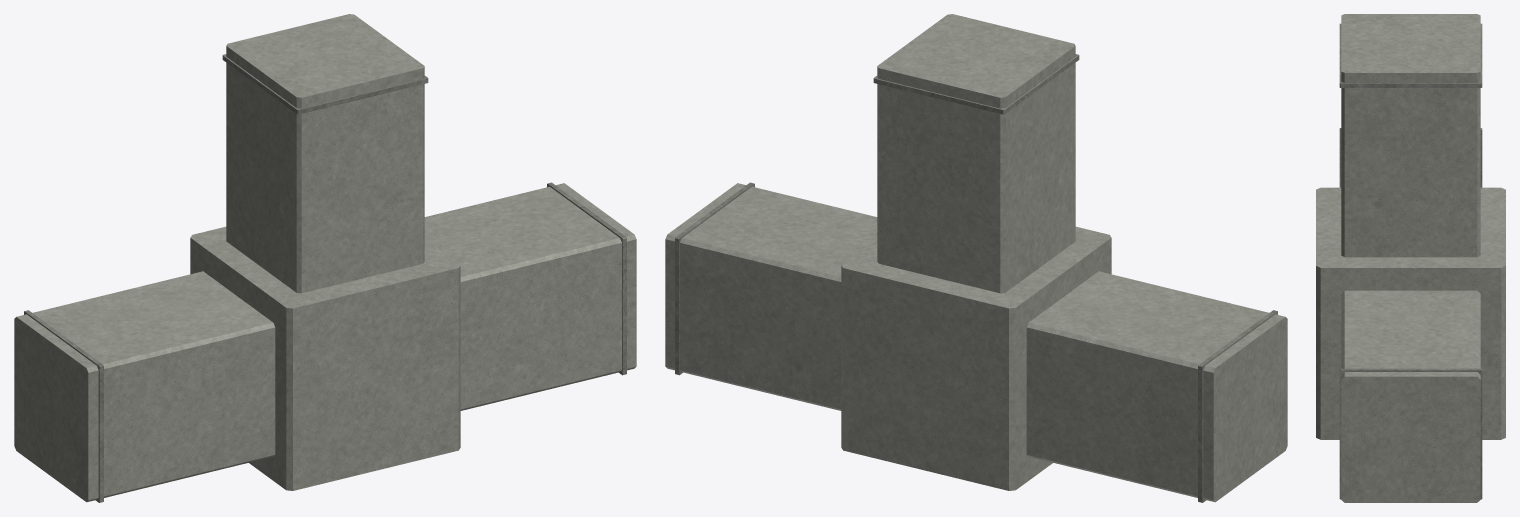
Rendered from PZ_Joint_T_XYZ.glb.
3 views of the same model, side by side, from view 1: azimuth 30°, elevation 25°; view 2: azimuth 150°, elevation 25°; view 3: azimuth 270°, elevation 25° (orthographic). The views are drawn at different scales.
Visible parts, largest first — view 1: RENDER_PZ_Joint_T_XYZ__RENDER_Stub_+Z__005, RENDER_PZ_Joint_T_XYZ__RENDER_Stub_-X__003, RENDER_PZ_Joint_T_XYZ__RENDER_Joint_Central_Core__000, RENDER_PZ_Joint_T_XYZ__RENDER_Stub_+X__001, RENDER_PZ_Joint_T_XYZ__RENDER_Joint_Grout_-X__004, RENDER_PZ_Joint_T_XYZ__RENDER_Joint_Grout_+Z__006, RENDER_PZ_Joint_T_XYZ__RENDER_Joint_Grout_+X__002; view 2: RENDER_PZ_Joint_T_XYZ__RENDER_Stub_+Z__005, RENDER_PZ_Joint_T_XYZ__RENDER_Stub_-X__003, RENDER_PZ_Joint_T_XYZ__RENDER_Joint_Central_Core__000, RENDER_PZ_Joint_T_XYZ__RENDER_Stub_+X__001, RENDER_PZ_Joint_T_XYZ__RENDER_Joint_Grout_-X__004, RENDER_PZ_Joint_T_XYZ__RENDER_Joint_Grout_+Z__006, RENDER_PZ_Joint_T_XYZ__RENDER_Joint_Grout_+X__002; view 3: RENDER_PZ_Joint_T_XYZ__RENDER_Stub_+Z__005, RENDER_PZ_Joint_T_XYZ__RENDER_Stub_+X__001, RENDER_PZ_Joint_T_XYZ__RENDER_Joint_Central_Core__000, RENDER_PZ_Joint_T_XYZ__RENDER_Joint_Grout_+X__002, RENDER_PZ_Joint_T_XYZ__RENDER_Joint_Grout_+Z__006, RENDER_PZ_Joint_T_XYZ__RENDER_Joint_Grout_-X__004.
Boxes of the visible parts, x1,y1,x2,y2 form: RENDER_PZ_Joint_T_XYZ__RENDER_Stub_+Z__005: [226, 14, 424, 293]; RENDER_PZ_Joint_T_XYZ__RENDER_Stub_-X__003: [14, 271, 275, 502]; RENDER_PZ_Joint_T_XYZ__RENDER_Joint_Central_Core__000: [190, 226, 460, 490]; RENDER_PZ_Joint_T_XYZ__RENDER_Stub_+X__001: [424, 183, 636, 410]; RENDER_PZ_Joint_T_XYZ__RENDER_Joint_Grout_-X__004: [24, 310, 103, 502]; RENDER_PZ_Joint_T_XYZ__RENDER_Joint_Grout_+Z__006: [222, 54, 428, 114]; RENDER_PZ_Joint_T_XYZ__RENDER_Joint_Grout_+X__002: [547, 182, 626, 375]; RENDER_PZ_Joint_T_XYZ__RENDER_Stub_+Z__005: [877, 14, 1075, 293]; RENDER_PZ_Joint_T_XYZ__RENDER_Stub_-X__003: [1026, 271, 1287, 502]; RENDER_PZ_Joint_T_XYZ__RENDER_Joint_Central_Core__000: [841, 226, 1111, 490]; RENDER_PZ_Joint_T_XYZ__RENDER_Stub_+X__001: [665, 183, 877, 410]; RENDER_PZ_Joint_T_XYZ__RENDER_Joint_Grout_-X__004: [1198, 310, 1277, 502]; RENDER_PZ_Joint_T_XYZ__RENDER_Joint_Grout_+Z__006: [873, 54, 1079, 114]; RENDER_PZ_Joint_T_XYZ__RENDER_Joint_Grout_+X__002: [675, 182, 754, 375]; RENDER_PZ_Joint_T_XYZ__RENDER_Stub_+Z__005: [1341, 14, 1480, 257]; RENDER_PZ_Joint_T_XYZ__RENDER_Stub_+X__001: [1341, 290, 1480, 502]; RENDER_PZ_Joint_T_XYZ__RENDER_Joint_Central_Core__000: [1316, 187, 1505, 439]; RENDER_PZ_Joint_T_XYZ__RENDER_Joint_Grout_+X__002: [1339, 368, 1482, 499]; RENDER_PZ_Joint_T_XYZ__RENDER_Joint_Grout_+Z__006: [1339, 23, 1482, 87]; RENDER_PZ_Joint_T_XYZ__RENDER_Joint_Grout_-X__004: [1339, 128, 1482, 187].
Bounding box in the file's own units: 1.54 × 1.01 × 0.49.
Materials: 2 (2 with a texture image).
